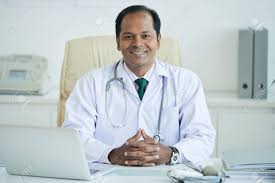Indian_Male: (113, 19, 158, 75)
